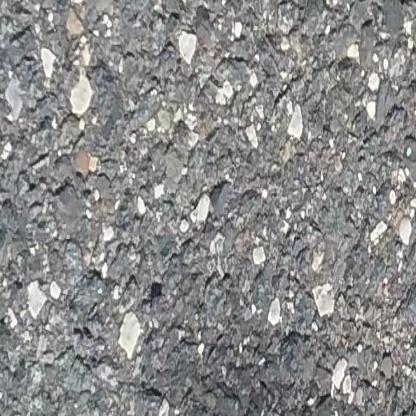Cracks: (258, 0, 321, 23), (372, 0, 416, 27)
